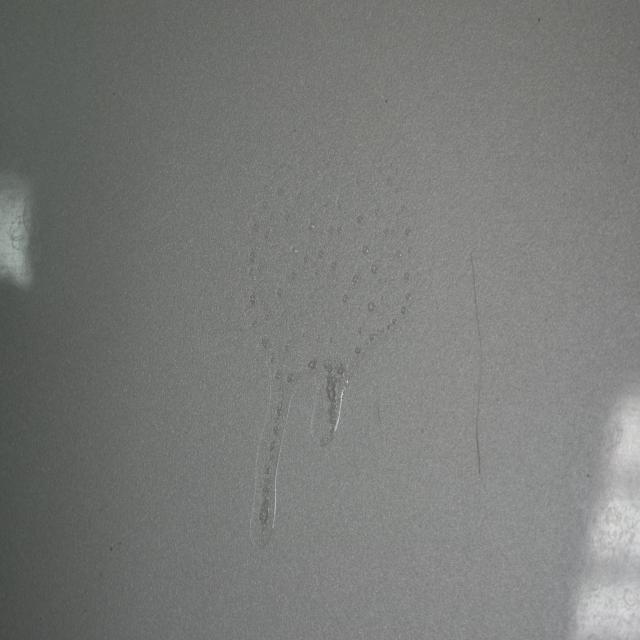runs: (236, 171, 421, 574)
scratch: (465, 243, 487, 474)
